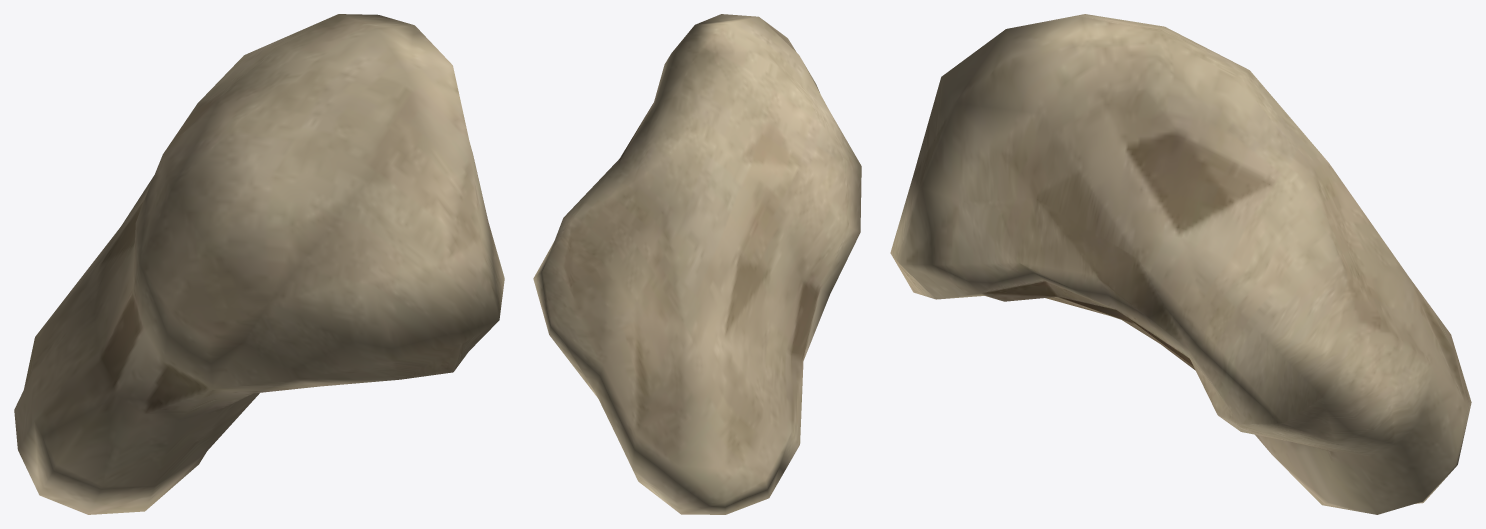
Rendered from Ulnar.glb.
3 views of the same model, side by side, from view 1: azimuth 30°, elevation 25°; view 2: azimuth 150°, elevation 25°; view 3: azimuth 270°, elevation 25° (orthographic). The views are drawn at different scales.
Visible parts, largest first — view 1: Ulnar_Right1:Group16114; view 2: Ulnar_Right1:Group16114; view 3: Ulnar_Right1:Group16114.
Boxes of the visible parts, bbox=[...] form: Ulnar_Right1:Group16114: bbox=[14, 14, 504, 514]; Ulnar_Right1:Group16114: bbox=[533, 14, 861, 514]; Ulnar_Right1:Group16114: bbox=[890, 14, 1471, 514].
Size of the model in its own units: 10.49 by 14.58 by 14.17.
Materials: 1 (1 with a texture image).
